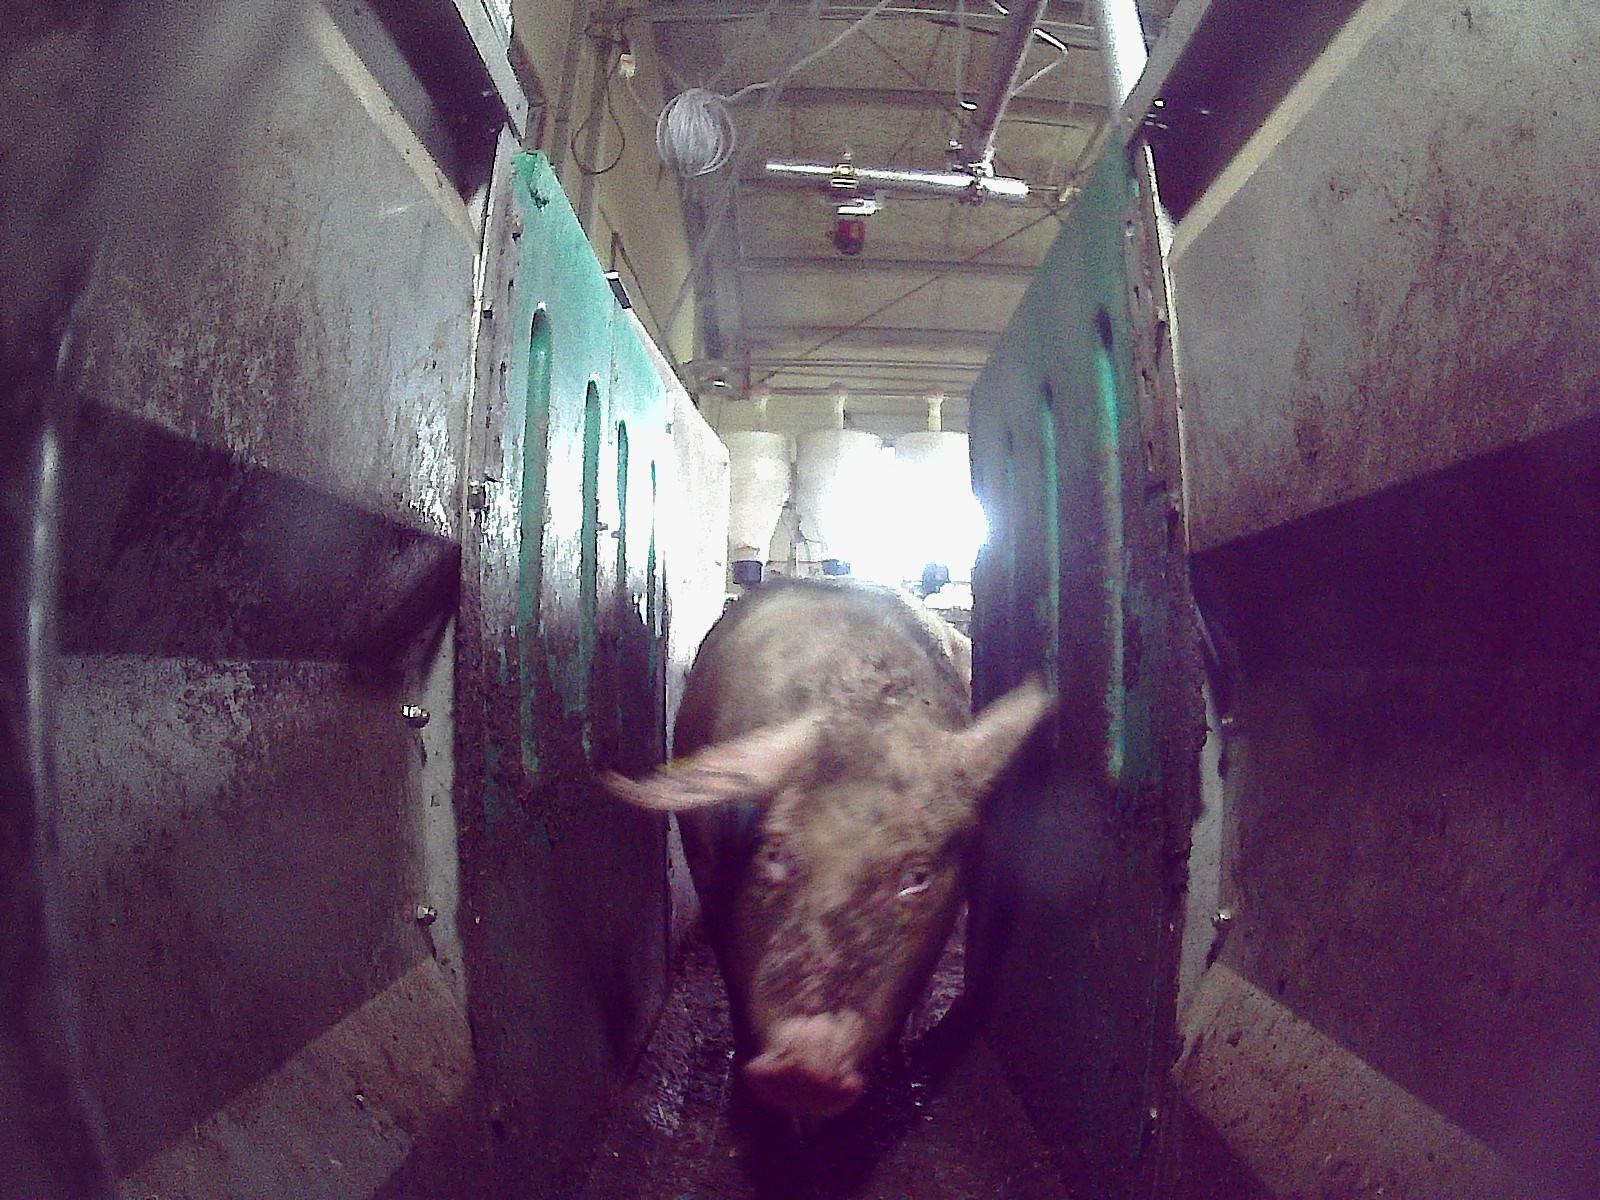Face: (707, 713, 970, 1114)
